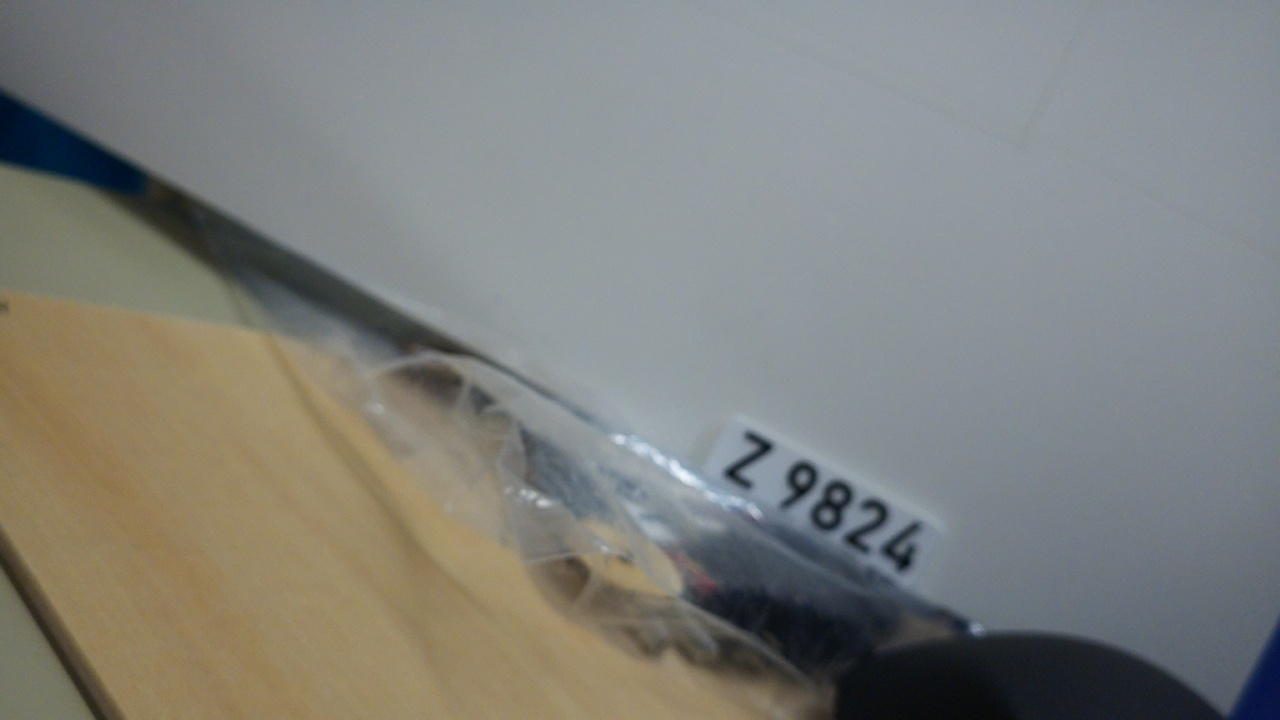license_plate: (701, 412, 948, 594)
